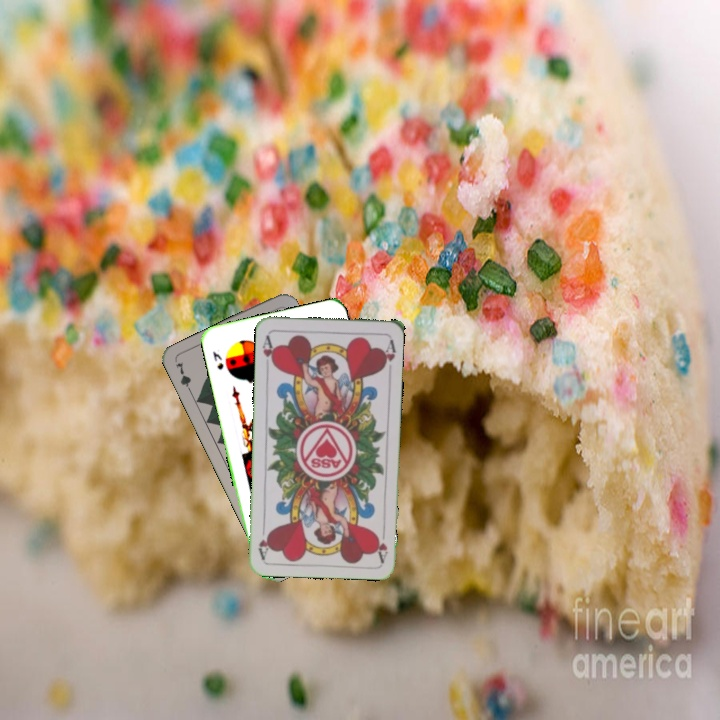G7: (172, 358, 195, 397)
HA: (258, 331, 278, 369), (373, 523, 390, 564)
SK: (209, 347, 226, 372)
